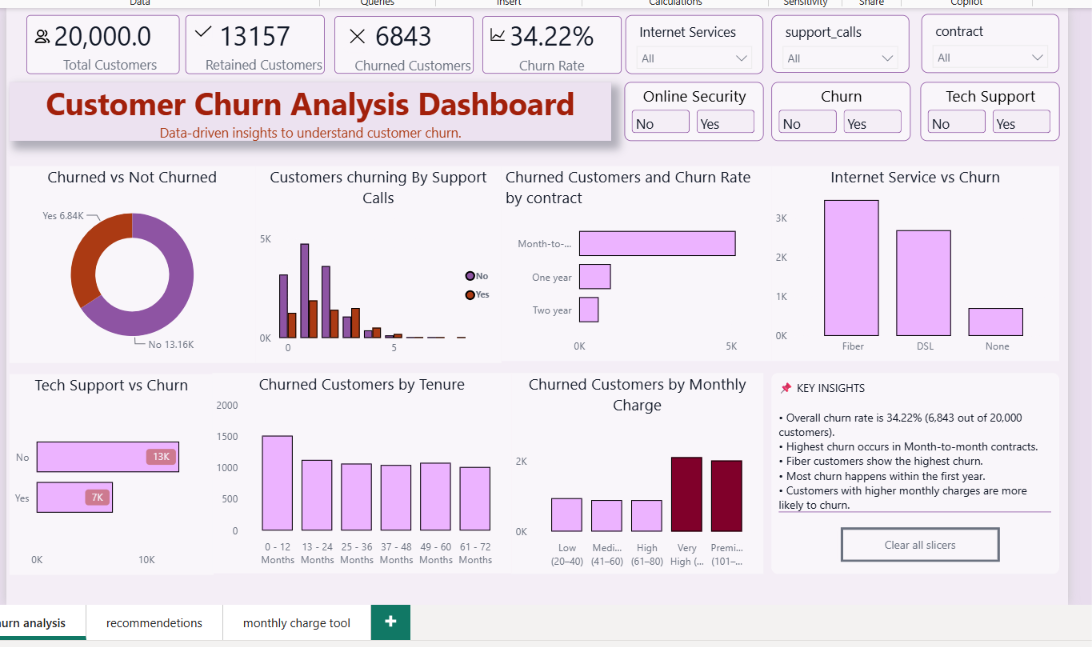

Layout of this report page (visuals, bound fields, positions):
{"tool":"powerbi","page":{"name":"churn analysis","canvas":[1280,720],"ordinal":0},"visuals":[{"type":"card","fields":{"Values":["customer_churn_dataset.Churned Customers"]},"box":[395.7,9.7,167.7,70],"z":0},{"type":"clusteredColumnChart","title":"Customers churning By Support Calls","fields":{"Category":["customer_churn_dataset.support_calls"],"Series":["customer_churn_dataset.churn"],"Y":["CountNonNull(customer_churn_dataset.customer_id)"]},"box":[300.4,190.6,296.8,237.7],"z":1000},{"type":"barChart","fields":{"Y":["customer_churn_dataset.Churned Customers"],"Category":["customer_churn_dataset.contract"]},"box":[597.2,190.6,325.7,235.3],"z":2000},{"type":"card","fields":{"Values":["CountNonNull(customer_churn_dataset.customer_id)"]},"box":[41,8.4,167.7,71.2],"z":3000},{"type":"card","fields":{"Values":["customer_churn_dataset.Customers not churned"]},"box":[216,8.4,167.7,71.2],"z":4000},{"type":"clusteredBarChart","title":"Tech Support vs Churn","fields":{"Category":["customer_churn_dataset.tech_support"],"Y":["CountNonNull(customer_churn_dataset.churn)"]},"box":[3.6,441.6,246.1,242.5],"z":5000},{"type":"columnChart","title":"Internet Service vs Churn","fields":{"Category":["customer_churn_dataset.internet_service"],"Y":["customer_churn_dataset.Churned Customers"]},"box":[922.9,190.6,347.5,235.3],"z":6000},{"type":"columnChart","title":"Churned Customers by Tenure ","fields":{"Category":["customer_churn_dataset.Tenure Bucket"],"Y":["customer_churn_dataset.Churned Customers"]},"box":[248.5,440.4,360.7,241.3],"z":7000},{"type":"donutChart","title":"Churned vs Not Churned","fields":{"Category":["customer_churn_dataset.churn"],"Y":["CountNonNull(customer_churn_dataset.customer_id)"]},"box":[3.6,190.6,296.8,237.7],"z":8000},{"type":"columnChart","title":"Churned Customers by Monthly Charge","fields":{"Y":["customer_churn_dataset.Churned Customers"],"Category":["customer_churn_dataset.Monthly Charge Bucket"]},"box":[609.3,440.4,304,242.5],"z":9000},{"type":"advancedSlicerVisual","title":"Churn","fields":{"Values":["customer_churn_dataset.churn"]},"box":[922.9,89.3,167.7,71.2],"z":10000},{"type":"advancedSlicerVisual","title":"Online Security","fields":{"Values":["customer_churn_dataset.online_security"]},"box":[745.6,89.3,167.7,71.2],"z":11000},{"type":"slicer","title":"Internet Services","fields":{"Values":["customer_churn_dataset.internet_service"]},"box":[746.8,8.4,166.5,71.2],"z":12000},{"type":"slicer","title":"Internet Services","fields":{"Values":["customer_churn_dataset.support_calls"]},"box":[922.9,8.4,166.5,70],"z":13000},{"type":"slicer","title":"Internet Services","fields":{"Values":["customer_churn_dataset.contract"]},"box":[1103.9,7.2,166.5,71.2],"z":14000},{"type":"advancedSlicerVisual","title":"Tech Support","fields":{"Values":["customer_churn_dataset.tech_support"]},"box":[1102.7,89.3,167.7,71.2],"z":15000},{"type":"card","fields":{"Values":["customer_churn_dataset.Churn Rate"]},"box":[574.3,9.7,167.7,70],"z":16000},{"type":"textbox","box":[3.6,89.3,726.3,71.2],"z":17000},{"type":"image","box":[51.9,14.5,32.6,30.2],"z":18000},{"type":"image","box":[406.6,14.5,33.8,39.8],"z":19000},{"type":"image","box":[576.7,12.1,32.6,39.8],"z":20000},{"type":"image","box":[226.8,12.1,21.7,32.6],"z":21000},{"type":"textbox","box":[923,440,347,242],"z":23001}]}

Visuals, with their boxes on the page's 1280x720 design canvas (x1, y1, x2, y2). These are canvas units, not pixel positions in the 1092x647 screenshot, which may show the page scaled, cropped or inside an application window:
card - customer_churn_dataset.Churned Customers: x1=396, y1=10, x2=563, y2=80
"Customers churning By Support Calls" clusteredColumnChart: x1=300, y1=191, x2=597, y2=428
barChart - customer_churn_dataset.Churned Customers x customer_churn_dataset.contract: x1=597, y1=191, x2=923, y2=426
card - CountNonNull(customer_churn_dataset.customer_id): x1=41, y1=8, x2=209, y2=80
card - customer_churn_dataset.Customers not churned: x1=216, y1=8, x2=384, y2=80
"Tech Support vs Churn" clusteredBarChart: x1=4, y1=442, x2=250, y2=684
"Internet Service vs Churn" columnChart: x1=923, y1=191, x2=1270, y2=426
"Churned Customers by Tenure " columnChart: x1=248, y1=440, x2=609, y2=682
"Churned vs Not Churned" donutChart: x1=4, y1=191, x2=300, y2=428
"Churned Customers by Monthly Charge" columnChart: x1=609, y1=440, x2=913, y2=683
"Churn" advancedSlicerVisual: x1=923, y1=89, x2=1091, y2=160
"Online Security" advancedSlicerVisual: x1=746, y1=89, x2=913, y2=160
"Internet Services" slicer: x1=747, y1=8, x2=913, y2=80
"Internet Services" slicer: x1=923, y1=8, x2=1089, y2=78
"Internet Services" slicer: x1=1104, y1=7, x2=1270, y2=78
"Tech Support" advancedSlicerVisual: x1=1103, y1=89, x2=1270, y2=160
card - customer_churn_dataset.Churn Rate: x1=574, y1=10, x2=742, y2=80
textbox: x1=4, y1=89, x2=730, y2=160
image: x1=52, y1=14, x2=84, y2=45
image: x1=407, y1=14, x2=440, y2=54
image: x1=577, y1=12, x2=609, y2=52
image: x1=227, y1=12, x2=248, y2=45
textbox: x1=923, y1=440, x2=1270, y2=682
